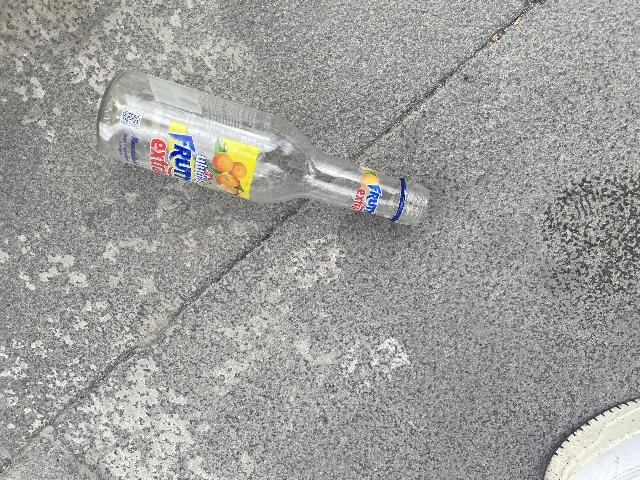Cam: (86, 60, 435, 238)
Metal: (395, 176, 411, 219)
Plastik: (127, 119, 254, 203), (351, 157, 378, 225)
